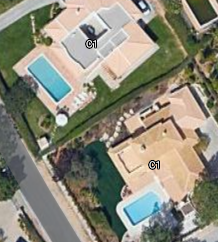pool: (30, 62, 68, 99), (125, 200, 164, 223)
